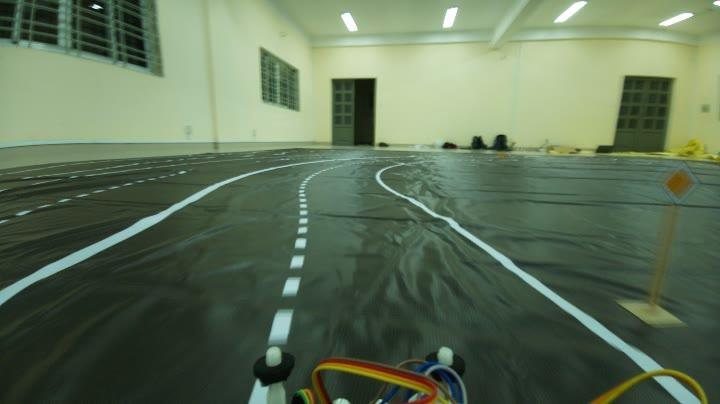priority: (660, 160, 700, 206)
